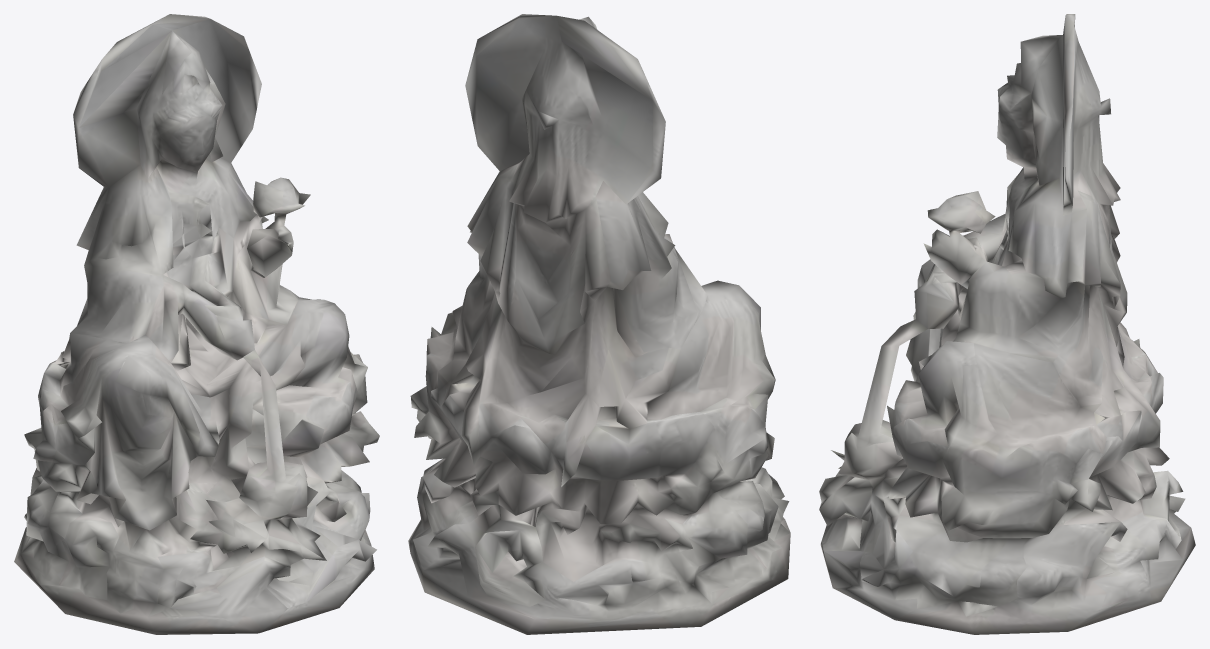
The model's file is far.glb.
The picture shows the model from 3 angles, left to right: view 1: azimuth 30°, elevation 25°; view 2: azimuth 150°, elevation 25°; view 3: azimuth 270°, elevation 25°; orthographic projection. The views are drawn at different scales.
Visible parts, largest first — view 1: owner-collection20-18; view 2: owner-collection20-18; view 3: owner-collection20-18.
Boxes of the visible parts, <box> form: owner-collection20-18: <box>14,14,379,634</box>; owner-collection20-18: <box>408,14,790,634</box>; owner-collection20-18: <box>819,14,1195,634</box>.
Size of the model in its own units: 0.6358 by 0.9957 by 0.6319.
1 material, 1 textured.
